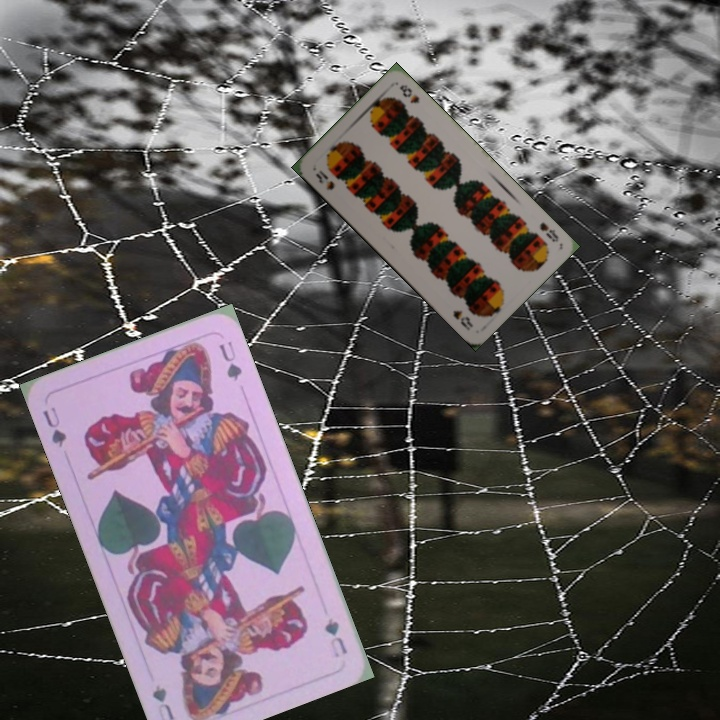GU: (39, 402, 69, 450), (320, 614, 350, 660)
S8: (535, 218, 561, 245), (312, 166, 337, 193)
